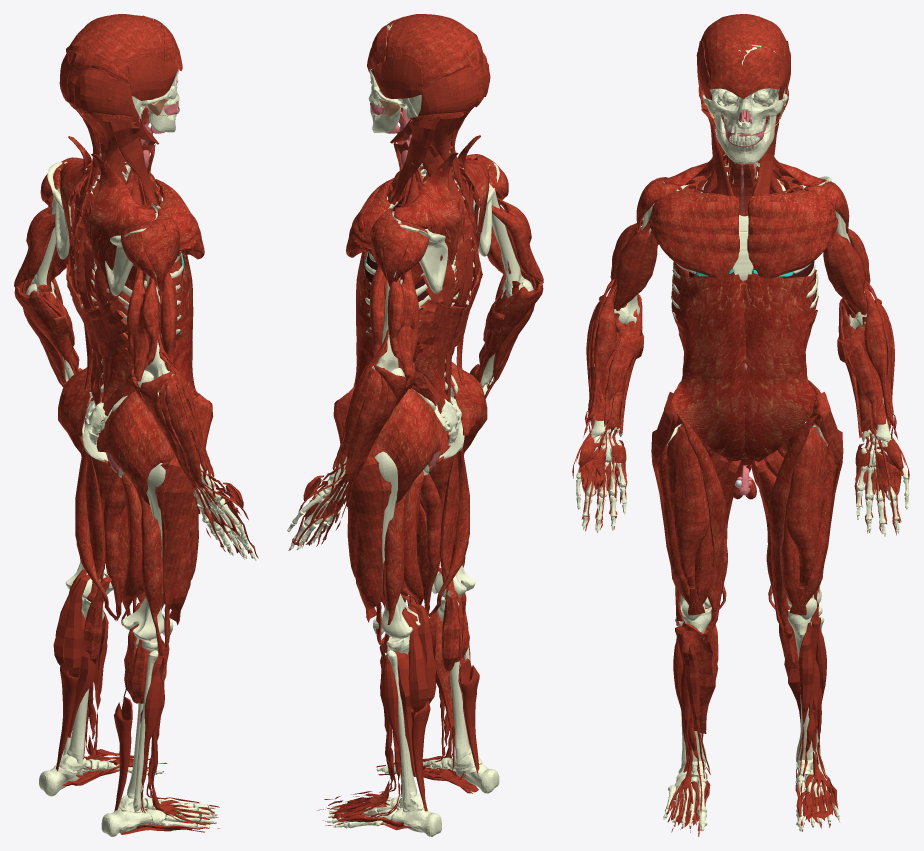
File: human body.fbx
3 views of the same model, side by side, from view 1: azimuth 30°, elevation 25°; view 2: azimuth 150°, elevation 25°; view 3: azimuth 270°, elevation 25° (orthographic).
Visible parts, largest first — view 1: Human_full_body_muscles:Leg_muscles:Second_Lumbrical_muscle_, head_muscles:Epicranial_aponeurosis, Human_full_body_muscles:Second_Lumbrical_muscle_of_left_foot, Human_full_body_muscles:Left_Gluteus_maximus, Human_full_body_muscles:pPlane15, Human_full_body_muscles:Left_Trapezius, Human_full_body_muscles:Left_Deltoid2, Human_full_body_muscles:Left_Triceps_brachii, head_muscles:pPlane84, Human_full_body_muscles:polySurface140, Human_full_body_muscles:Left_Extensor_digitorum, Human_full_body_muscles:Left_external_oblique1 (+43 smaller); view 2: Human_full_body_muscles:Leg_muscles:Second_Lumbrical_muscle_, head_muscles:Epicranial_aponeurosis, Human_full_body_muscles:Leg_muscles:Left_Gluteus_maximus, Human_full_body_muscles:Leg_muscles:pPlane15, Human_full_body_muscles:hand_muscles:Left_Trapezius, Human_full_body_muscles:Second_Lumbrical_muscle_of_left_foot, Human_full_body_muscles:hand_muscles:Left_Deltoid1, Human_full_body_muscles:hand_muscles:Left_Triceps_brachii, LEG:polySurface171 (×2), Human_full_body_muscles:hand_muscles:Left_Extensor_digitorum, head_muscles:pPlane83, Human_full_body_muscles:Leg_muscles:polySurface140 (+40 smaller); view 3: Human_full_body_muscles:Left_external_oblique, Human_full_body_muscles:Left_external_oblique1, Human_full_body_muscles:Left_Pectoralis_major1, Human_full_body_muscles:hand_muscles:Left_Pectoralis_major, Human_full_body_muscles:Leg_muscles:Second_Lumbrical_muscle_, Human_full_body_muscles:Left_Rectus_femoris, Human_full_body_muscles:Leg_muscles:Left_Rectus_femoris, Human_full_body_muscles:Second_Lumbrical_muscle_of_left_foot, Human_full_body_muscles:Leg_muscles:Left_Sartorius, Human_full_body_muscles:Left_Sartorius, head_muscles:Epicranial_aponeurosis, Human_full_body_muscles:Left_Biceps_brachii (+24 smaller).
Part boxes in pixels (bbox=[...]): Human_full_body_muscles:Leg_muscles:Second_Lumbrical_muscle_: bbox=[53, 569, 167, 786]; head_muscles:Epicranial_aponeurosis: bbox=[66, 14, 165, 109]; Human_full_body_muscles:Second_Lumbrical_muscle_of_left_foot: bbox=[114, 624, 219, 834]; Human_full_body_muscles:Left_Gluteus_maximus: bbox=[96, 391, 174, 505]; Human_full_body_muscles:pPlane15: bbox=[155, 393, 213, 647]; Human_full_body_muscles:Left_Trapezius: bbox=[89, 153, 155, 287]; Human_full_body_muscles:Left_Deltoid2: bbox=[121, 208, 180, 296]; Human_full_body_muscles:Left_Triceps_brachii: bbox=[127, 268, 159, 381]; head_muscles:pPlane84: bbox=[74, 68, 139, 118]; Human_full_body_muscles:polySurface140: bbox=[136, 489, 164, 655]; Human_full_body_muscles:Left_Extensor_digitorum: bbox=[165, 375, 252, 559]; Human_full_body_muscles:Left_external_oblique1: bbox=[127, 253, 198, 396]; Human_full_body_muscles:Leg_muscles:Second_Lumbrical_muscle_: bbox=[317, 602, 436, 830]; head_muscles:Epicranial_aponeurosis: bbox=[385, 14, 485, 107]; Human_full_body_muscles:Leg_muscles:Left_Gluteus_maximus: bbox=[371, 388, 448, 504]; Human_full_body_muscles:Leg_muscles:pPlane15: bbox=[333, 393, 391, 644]; Human_full_body_muscles:hand_muscles:Left_Trapezius: bbox=[394, 152, 460, 266]; Human_full_body_muscles:Second_Lumbrical_muscle_of_left_foot: bbox=[376, 593, 479, 793]; Human_full_body_muscles:hand_muscles:Left_Deltoid1: bbox=[370, 208, 429, 287]; Human_full_body_muscles:hand_muscles:Left_Triceps_brachii: bbox=[387, 269, 419, 375]; LEG:polySurface171 (×2): bbox=[375, 438, 475, 638]; Human_full_body_muscles:hand_muscles:Left_Extensor_digitorum: bbox=[294, 369, 381, 545]; head_muscles:pPlane83: bbox=[418, 67, 479, 116]; Human_full_body_muscles:Leg_muscles:polySurface140: bbox=[382, 488, 409, 652]; Human_full_body_muscles:Left_external_oblique: bbox=[743, 269, 818, 465]; Human_full_body_muscles:Left_external_oblique1: bbox=[671, 270, 745, 465]; Human_full_body_muscles:Left_Pectoralis_major1: bbox=[649, 190, 739, 279]; Human_full_body_muscles:hand_muscles:Left_Pectoralis_major: bbox=[747, 190, 838, 278]; Human_full_body_muscles:Leg_muscles:Second_Lumbrical_muscle_: bbox=[783, 617, 839, 831]; Human_full_body_muscles:Left_Rectus_femoris: bbox=[666, 427, 709, 588]; Human_full_body_muscles:Leg_muscles:Left_Rectus_femoris: bbox=[785, 427, 827, 588]; Human_full_body_muscles:Second_Lumbrical_muscle_of_left_foot: bbox=[666, 626, 710, 836]; Human_full_body_muscles:Leg_muscles:Left_Sartorius: bbox=[768, 415, 817, 640]; Human_full_body_muscles:Left_Sartorius: bbox=[677, 415, 726, 640]; head_muscles:Epicranial_aponeurosis: bbox=[698, 14, 785, 64]; Human_full_body_muscles:Left_Biceps_brachii: bbox=[613, 201, 657, 310].
Size of the model in its own units: 1.1 by 6.47 by 2.52.
12 materials, 1 textured.
